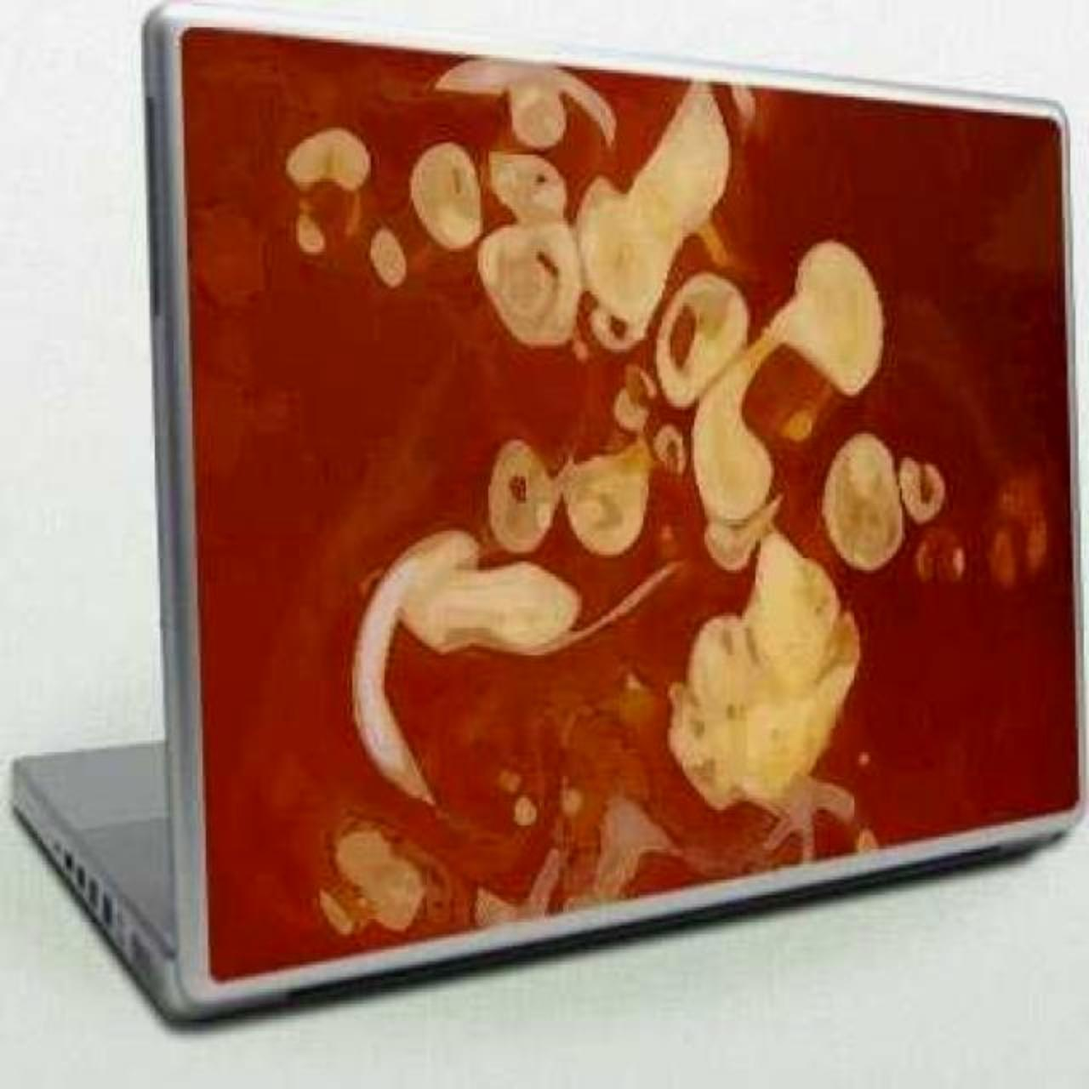laptop: (21, 18, 1088, 1010)
